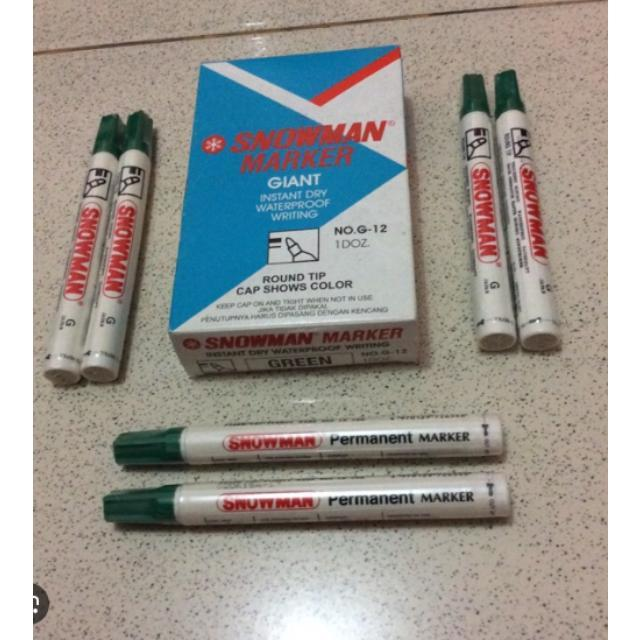marker: (108, 474, 507, 529), (115, 413, 507, 467), (459, 73, 519, 352)
